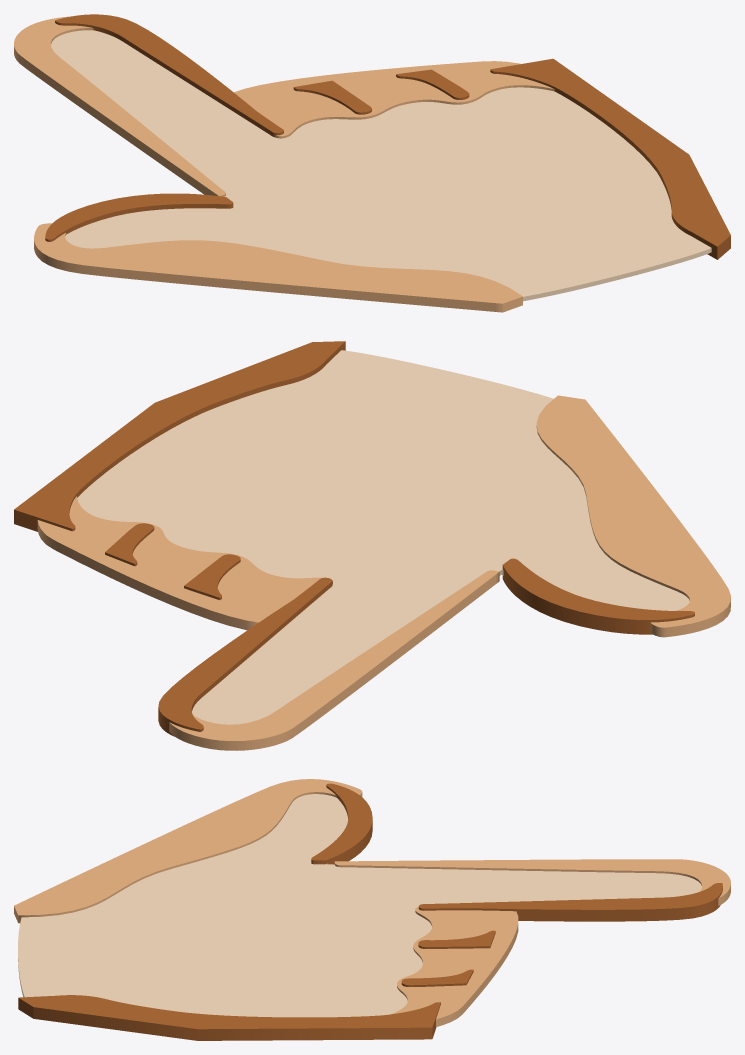
Rendered from emoji_u1f446_1f3fb.glb.
The picture shows the model from 3 angles, top to bottom: view 1: azimuth 30°, elevation 25°; view 2: azimuth 150°, elevation 25°; view 3: azimuth 270°, elevation 25°; orthographic projection. The views are drawn at different scales.
Visible parts, largest first — view 1: emoji_u1f446_1f3fb; view 2: emoji_u1f446_1f3fb; view 3: emoji_u1f446_1f3fb.
Part boxes in pixels (<box>): emoji_u1f446_1f3fb: <box>14,14,730,312</box>; emoji_u1f446_1f3fb: <box>14,341,730,750</box>; emoji_u1f446_1f3fb: <box>14,779,730,1040</box>.
Bounding box in the file's own units: 0.0276 × 0.0006 × 0.0331.
